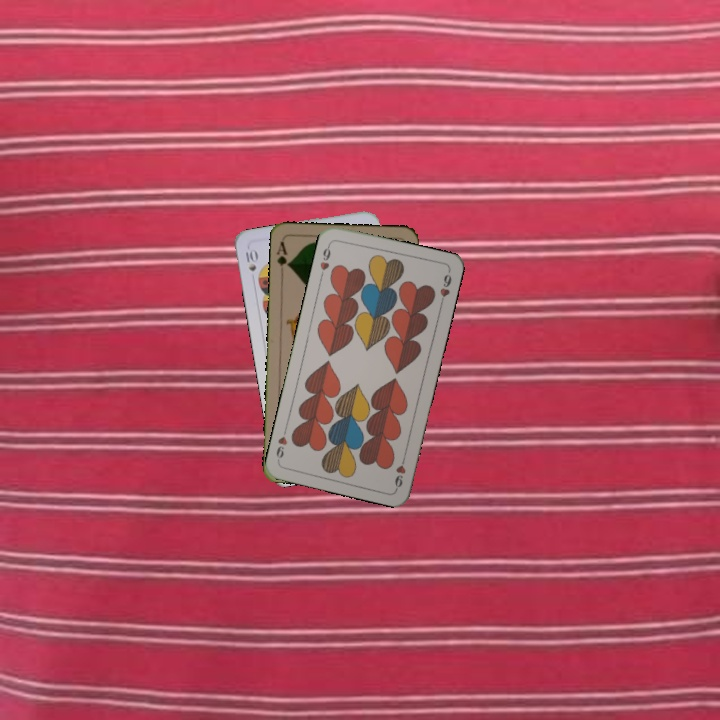GA: (273, 237, 293, 270)
H9: (316, 239, 334, 279), (391, 451, 409, 491)
S10: (241, 245, 260, 274)
